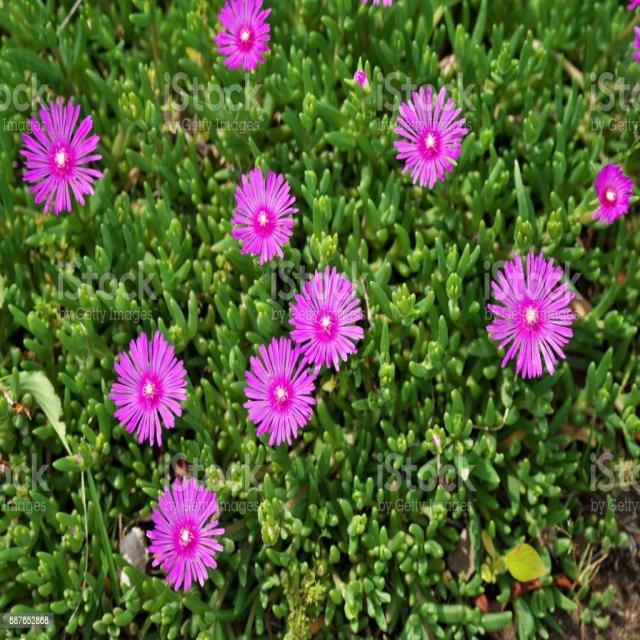organic waste: (141, 476, 227, 597), (102, 325, 188, 445), (20, 99, 103, 216), (491, 249, 566, 377), (286, 268, 368, 375), (242, 337, 318, 447), (394, 84, 464, 184), (232, 162, 296, 262), (216, 6, 286, 71), (592, 154, 626, 227)
